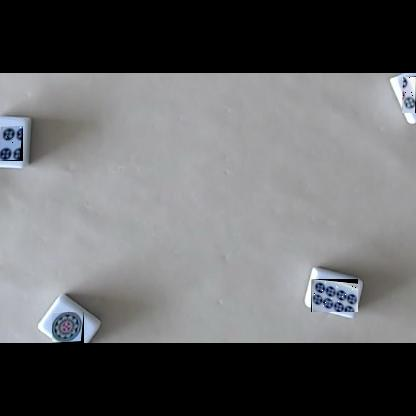1p: (52, 312, 84, 343)
4p: (0, 126, 23, 161)
5p: (402, 76, 416, 113)
8p: (311, 279, 358, 312)
